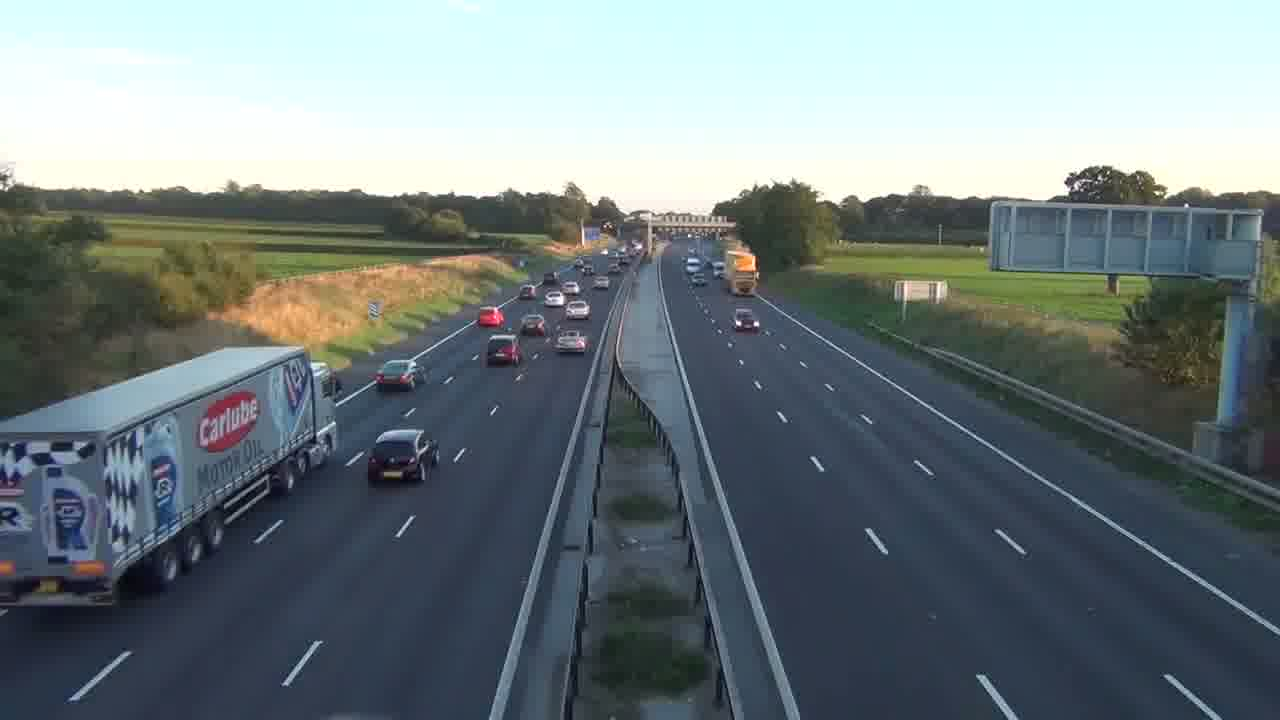car: (367, 428, 439, 484), (372, 357, 421, 392), (485, 333, 522, 367), (555, 330, 589, 355), (733, 307, 760, 333), (544, 291, 565, 308)
truck: (1, 344, 340, 609)
